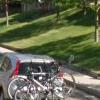Bicycle: (7, 64, 81, 100)
